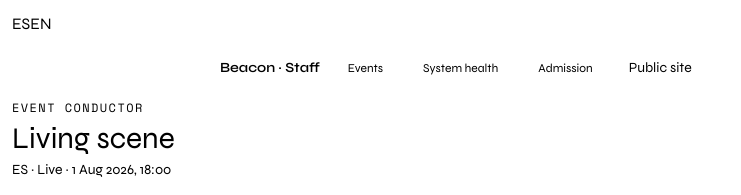
updates the Staff event heading and navigation without refreshing server data
Click the button "ES" at coordinates (21, 24), box [12,12,30,36]
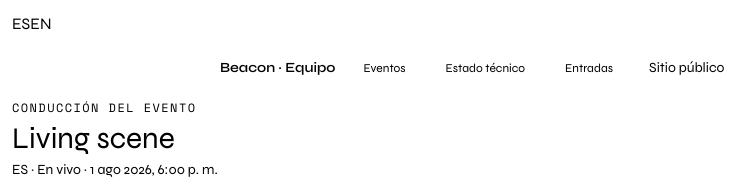
Now the navigation bar named "Operaciones de eventos" is shown, box [220,46,724,90]
Now the link "Eventos" is shown, box [352,46,418,90]
Now the text "En vivo" is shown, box [37,161,81,178]
